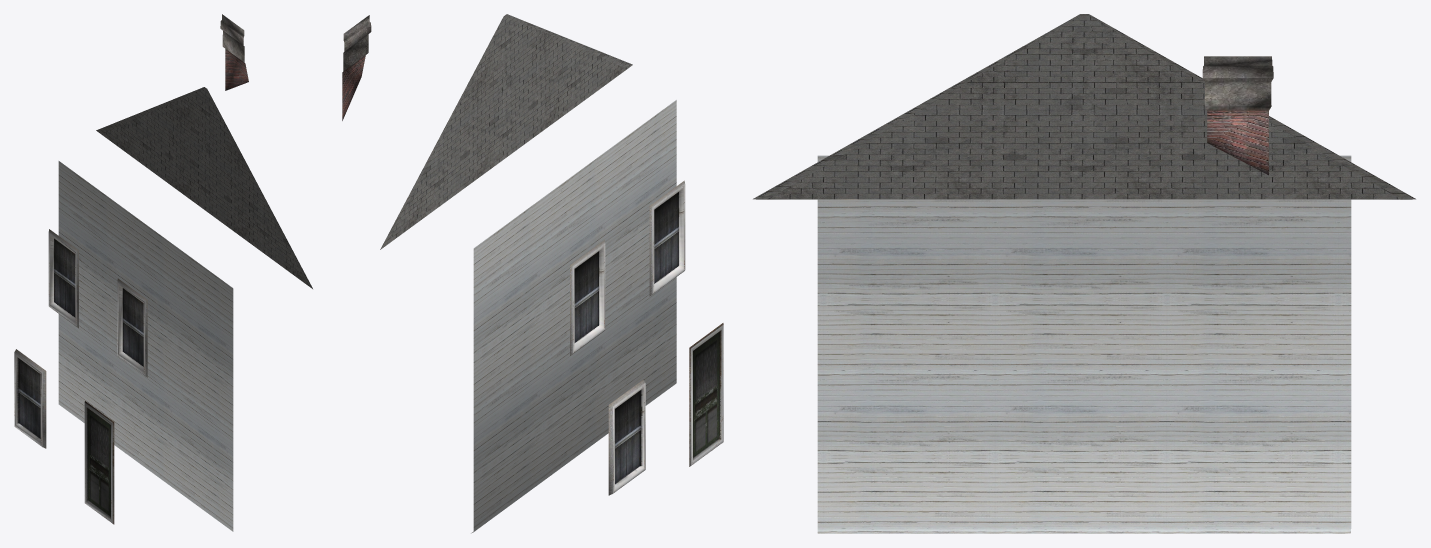
The model's file is stylizedproportions-house.glb.
3 renders of one model, left to right at view 1: azimuth 30°, elevation 25°; view 2: azimuth 150°, elevation 25°; view 3: azimuth 270°, elevation 25°, orthographic. The views are drawn at different scales.
Visible parts, largest first — view 1: 02 house_Farm_house_D_0.005; view 2: 02 house_Farm_house_D_0.005; view 3: 02 house_Farm_house_D_0.005.
Part boxes in pixels (box(x1,y1,x2,y2)): 02 house_Farm_house_D_0.005: box(14, 14, 312, 531); 02 house_Farm_house_D_0.005: box(342, 14, 723, 533); 02 house_Farm_house_D_0.005: box(753, 14, 1415, 533).
Bounding box in the file's own units: 51.96 × 83.38 × 86.93.
3 materials, 3 textured.
